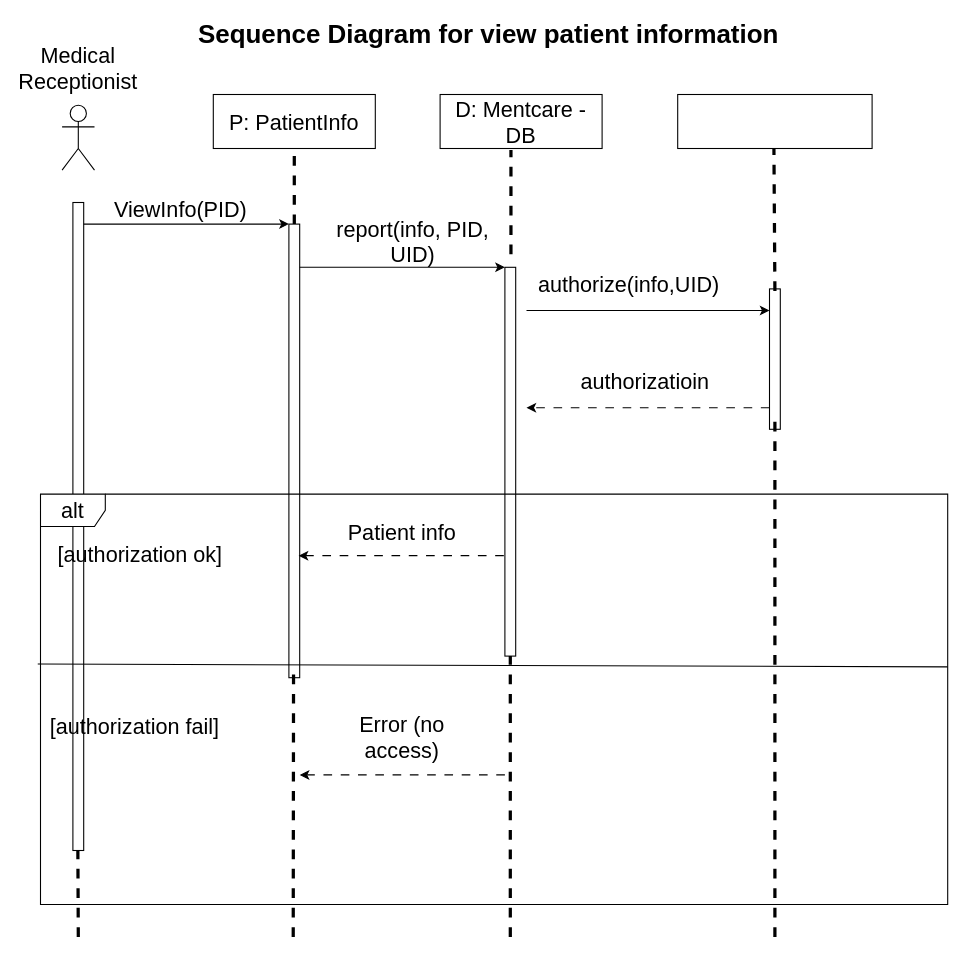
Image size: 968x958. Some labels were removed from this diagram. The shapes that lost their labels are listed below. From the top down, each one's centre as x and y in pixels, then its label:
At pixel 77 137: "Actor".
At pixel 774 120: "AS: Authorization".
